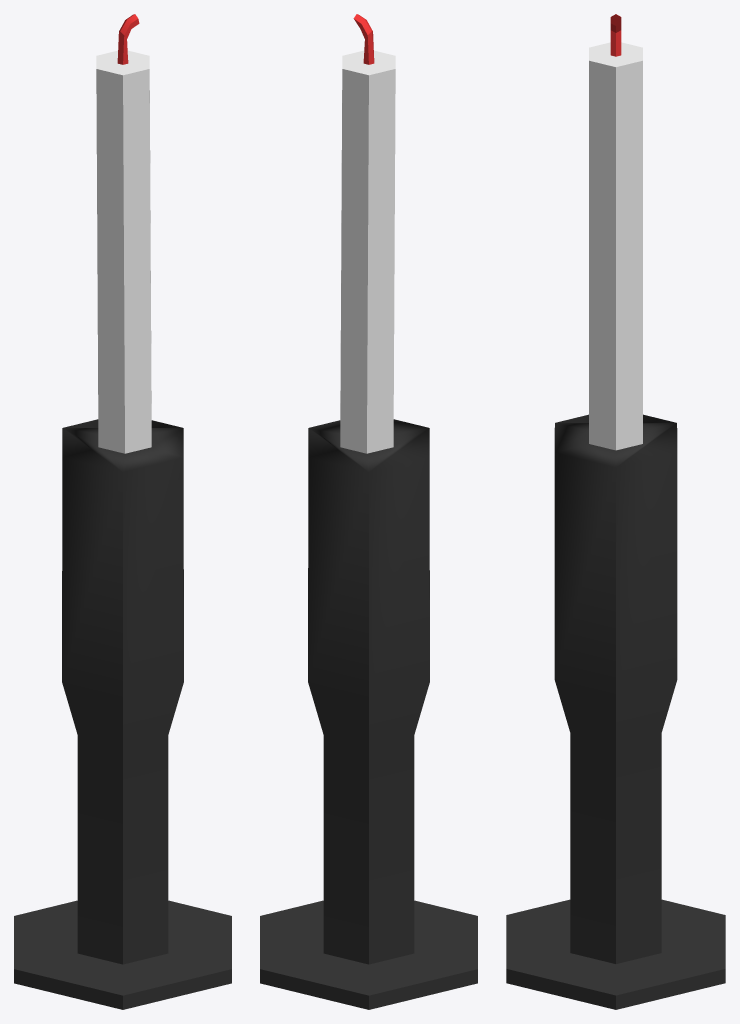
The model's file is Candlestick.fbx.
The picture shows the model from 3 angles, left to right: view 1: azimuth 30°, elevation 25°; view 2: azimuth 150°, elevation 25°; view 3: azimuth 270°, elevation 25°; orthographic projection.
Visible parts, largest first — view 1: Candlestick; view 2: Candlestick; view 3: Candlestick.
Part boxes in pixels (left/top/right/bottom): Candlestick: left=14, top=14, right=231, bottom=1009; Candlestick: left=260, top=14, right=477, bottom=1009; Candlestick: left=506, top=14, right=725, bottom=1009.
Bounding box in the file's own units: 14.09 × 58.12 × 12.2.
